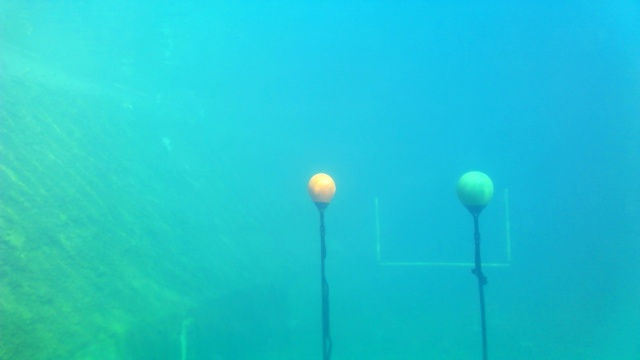buoy_green: (453, 167, 493, 219)
buoy_red: (308, 170, 335, 205)
